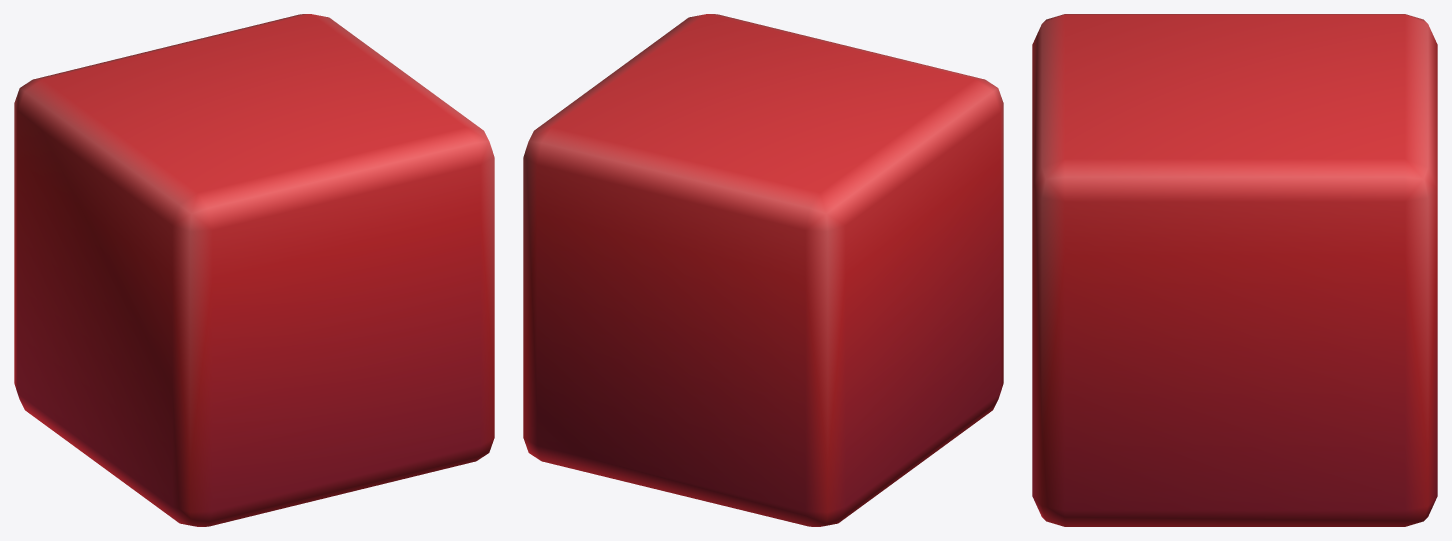
File: cube_red.obj
The picture shows the model from 3 angles, left to right: view 1: azimuth 30°, elevation 25°; view 2: azimuth 150°, elevation 25°; view 3: azimuth 270°, elevation 25°; orthographic projection. The views are drawn at different scales.
Parts seen in each view (by area): view 1: cube_red; view 2: cube_red; view 3: cube_red.
Boxes of the visible parts, box(x1,y1,x2,y2) form: cube_red: box(14, 14, 494, 526); cube_red: box(523, 14, 1003, 526); cube_red: box(1032, 14, 1437, 526).
Bounding box in the file's own units: 0.5 × 0.5 × 0.5.
Materials: 1 (1 with a texture image).
